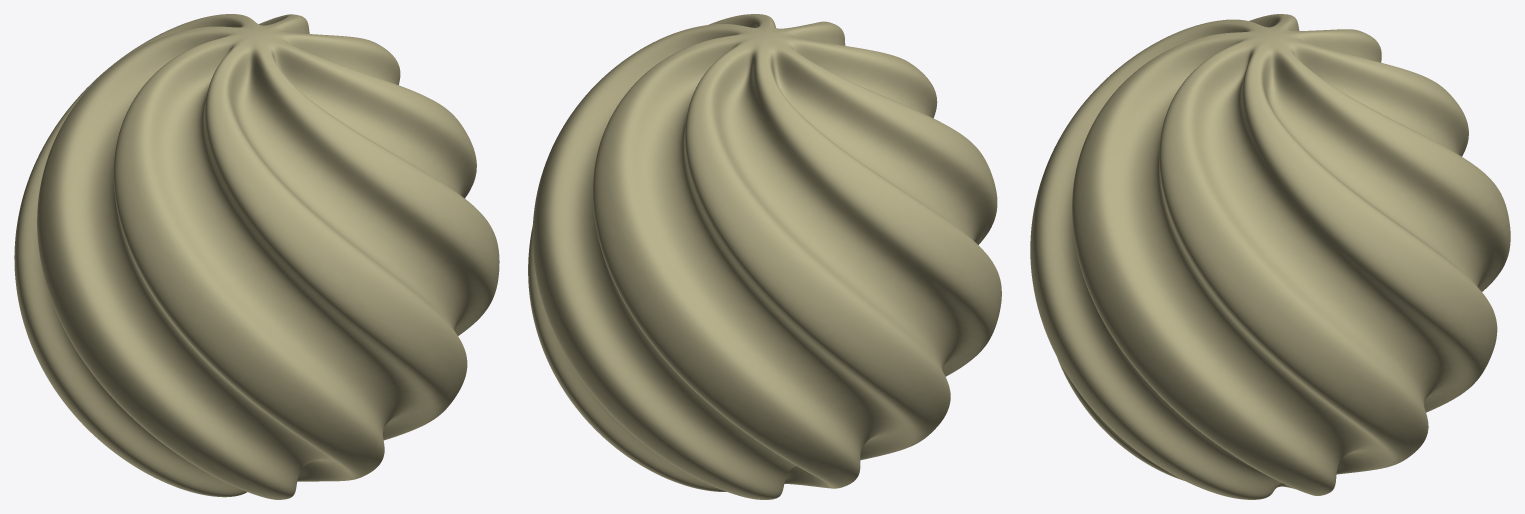
The picture shows the model from 3 angles, left to right: view 1: azimuth 30°, elevation 25°; view 2: azimuth 150°, elevation 25°; view 3: azimuth 270°, elevation 25°; orthographic projection.
Visible parts, largest first — view 1: Sphere; view 2: Sphere; view 3: Sphere.
Boxes of the visible parts, x1,y1,x2,y2 form: Sphere: (14, 14, 499, 499); Sphere: (528, 14, 1001, 499); Sphere: (1030, 14, 1510, 499).
Size of the model in its own units: 2.93 by 2.99 by 2.93.
